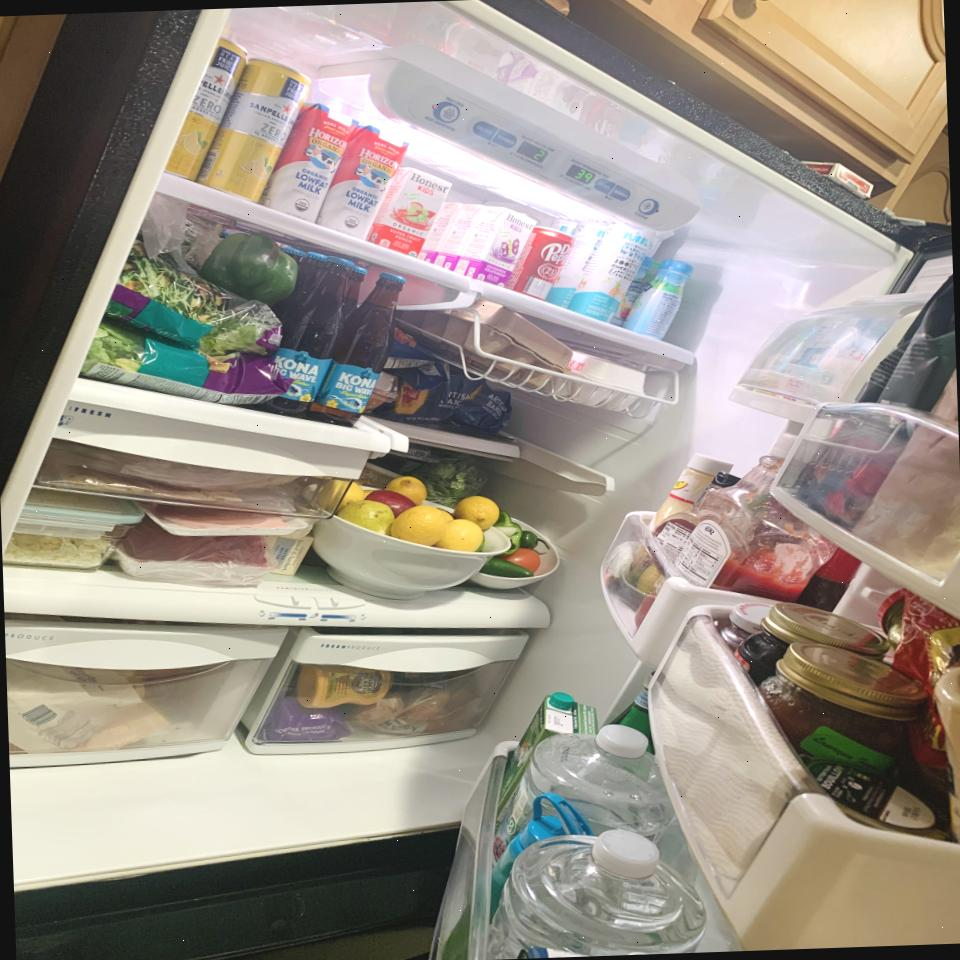Huevos: (400, 297, 575, 394), (566, 348, 648, 414)
Limón: (394, 506, 449, 549), (455, 496, 501, 528), (444, 518, 482, 554), (318, 479, 362, 510), (389, 476, 426, 508)
